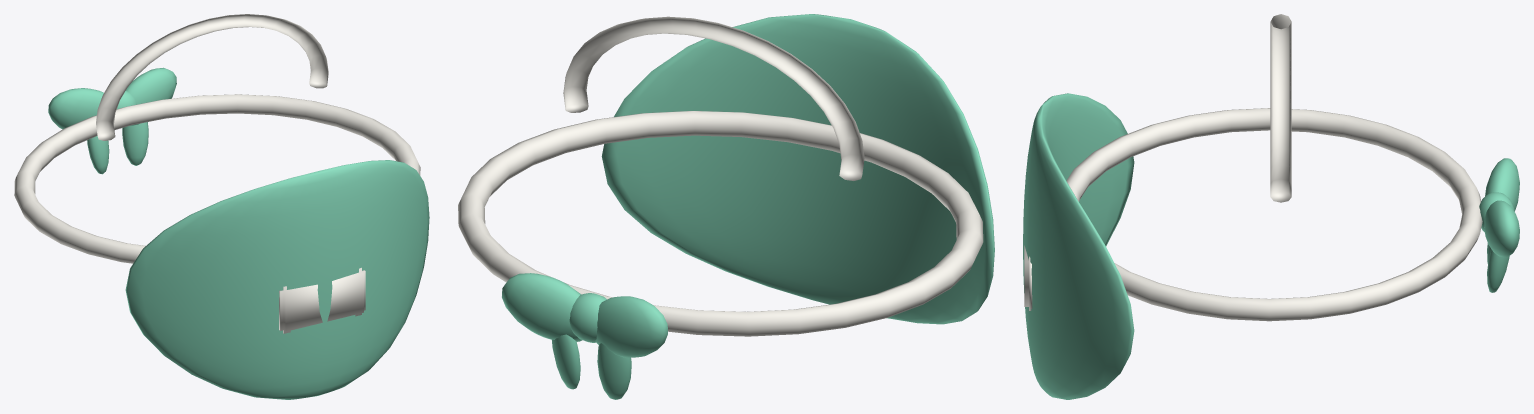
The model's file is apron.glb.
3 views of the same model, side by side, from view 1: azimuth 30°, elevation 25°; view 2: azimuth 150°, elevation 25°; view 3: azimuth 270°, elevation 25° (orthographic). The views are drawn at different scales.
Visible parts, largest first — view 1: ApronShield, WaistBelt, NeckStrap, ApronPocket, BackBowLoop_-1, BackBowLoop_1, BackBowTail_1, BackBowTail_-1; view 2: ApronShield, WaistBelt, NeckStrap, BackBowLoop_1, BackBowLoop_-1, BackBowTail_-1, BackKnot, BackBowTail_1; view 3: ApronShield, WaistBelt, NeckStrap, BackBowLoop_1, BackBowLoop_-1, BackBowTail_1, ApronPocket.
Boxes of the visible parts, x1,y1,x2,y2 form: ApronShield: (125,160,429,399); WaistBelt: (14,94,420,263); NeckStrap: (96,14,328,140); ApronPocket: (279,267,365,333); BackBowLoop_-1: (48,88,103,129); BackBowLoop_1: (126,67,176,126); BackBowTail_1: (122,122,148,165); BackBowTail_-1: (87,136,109,174); ApronShield: (601,14,994,324); WaistBelt: (458,111,983,336); NeckStrap: (563,16,864,180); BackBowLoop_1: (502,273,582,341); BackBowLoop_-1: (595,296,667,357); BackBowTail_-1: (597,343,631,399); BackKnot: (569,293,606,342); BackBowTail_1: (552,334,580,389); ApronShield: (1023,93,1134,399); WaistBelt: (1066,108,1482,321); NeckStrap: (1270,14,1291,202); BackBowLoop_1: (1484,200,1519,257); BackBowLoop_-1: (1485,158,1519,211); BackBowTail_1: (1487,249,1509,292); ApronPocket: (1024,245,1032,310).
Size of the model in its own units: 0.8075 by 0.6377 by 0.8434.
